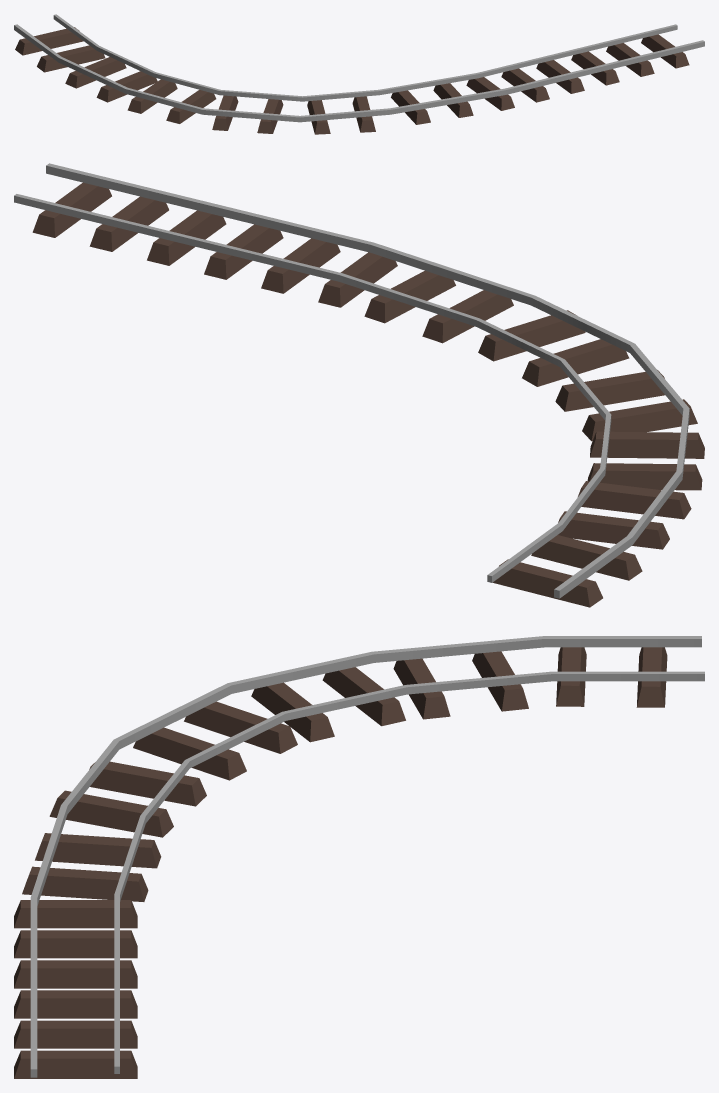
The model's file is rails2.fbx.
The picture shows the model from 3 angles, top to bottom: view 1: azimuth 30°, elevation 25°; view 2: azimuth 150°, elevation 25°; view 3: azimuth 270°, elevation 25°; orthographic projection. The views are drawn at different scales.
Visible parts, largest first — view 1: polySurface422; view 2: polySurface422; view 3: polySurface422.
Part boxes in pixels (x1,y1,x2,y2): polySurface422: [14, 14, 704, 134]; polySurface422: [14, 163, 704, 607]; polySurface422: [14, 636, 704, 1078].
Bounding box in the file's own units: 12937 × 370 × 8548.
